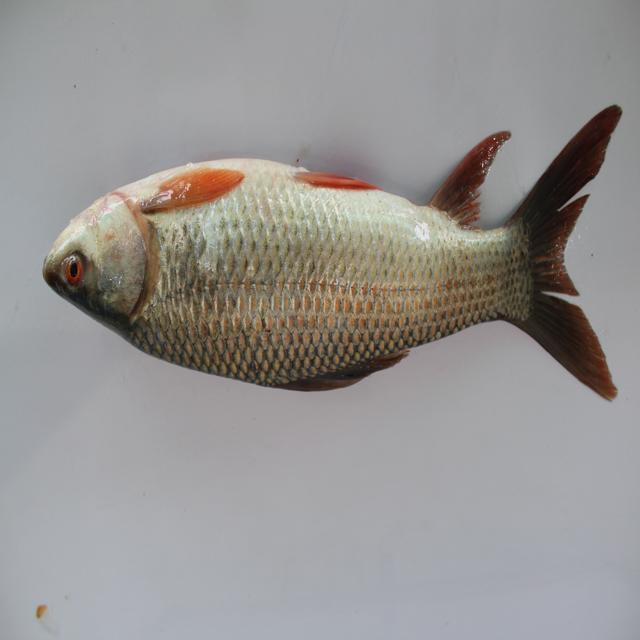Rohu: (50, 126, 627, 426)
